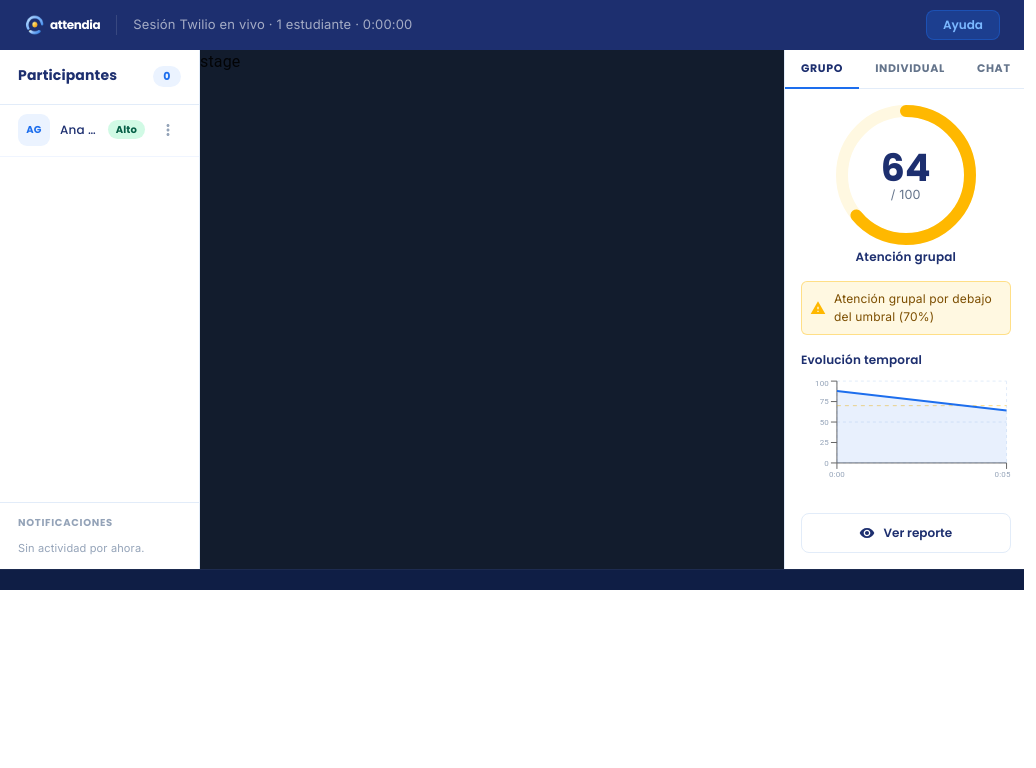
Test: ProfessorRoomShell › asks a student to turn the mic on from the roster kebab menu
Click the button with test id "professor-room-shell-roster-menu-button".
click(168, 130)  # box left=155, top=118, right=181, bottom=140
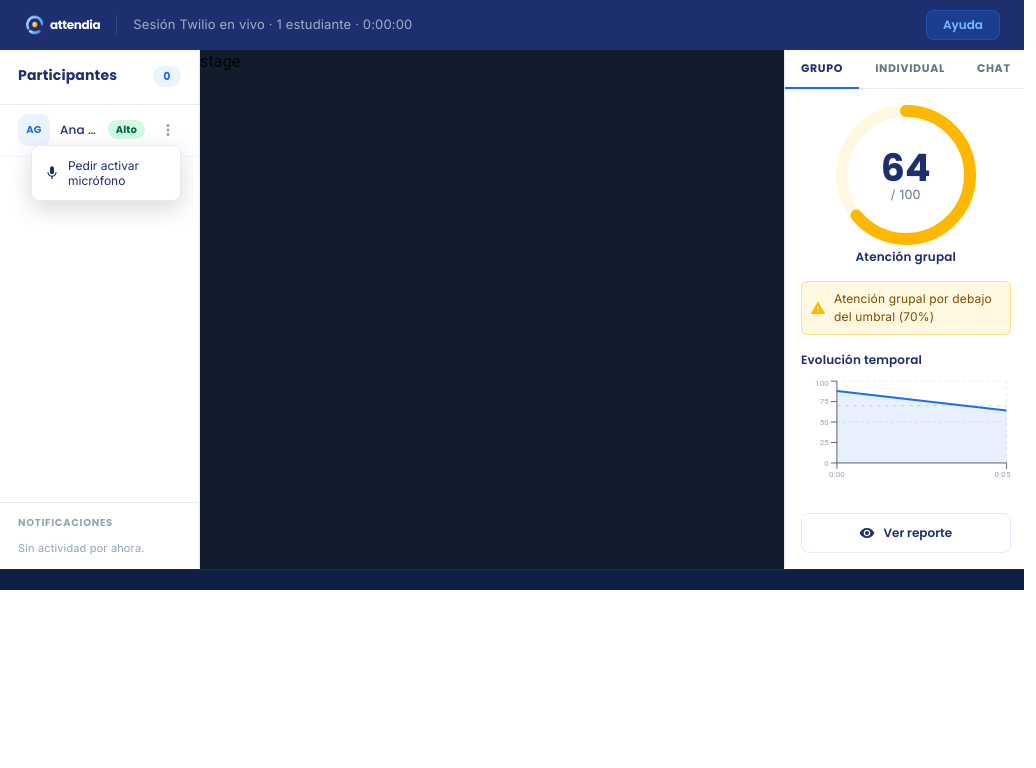
Result: the menu item with test id "professor-room-shell-roster-request-unmute" reads "Pedir activar micrófono"
Click the menu item with test id "professor-room-shell-roster-request-unmute".
click(106, 172)  # box left=32, top=150, right=180, bottom=196
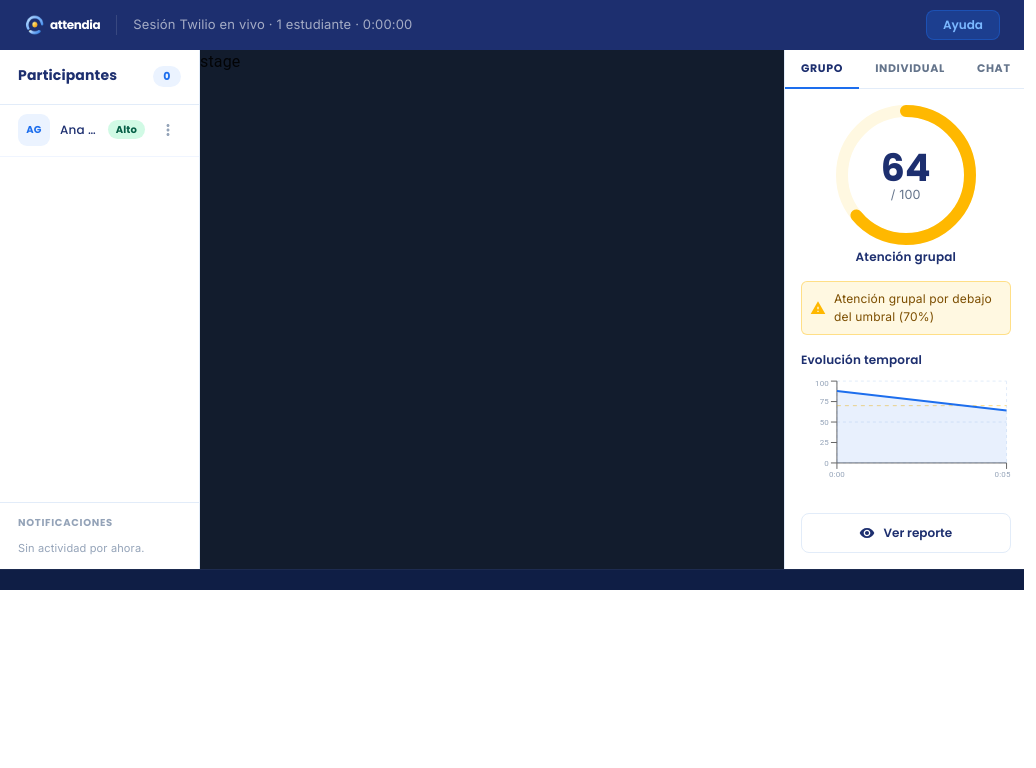
Result: the menu with test id "professor-room-shell-roster-menu" is gone
